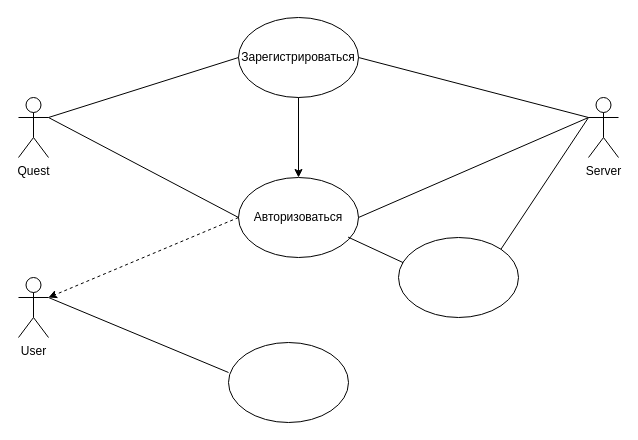
This 638x440 diagram has some shape labels left out. The box of each missing label's shape, as (x1, y1, x2, y2) in pixels:
Восстановить пароль: (398, 236, 518, 318)
Выполнить интерполяцию полинома: (228, 342, 348, 422)
